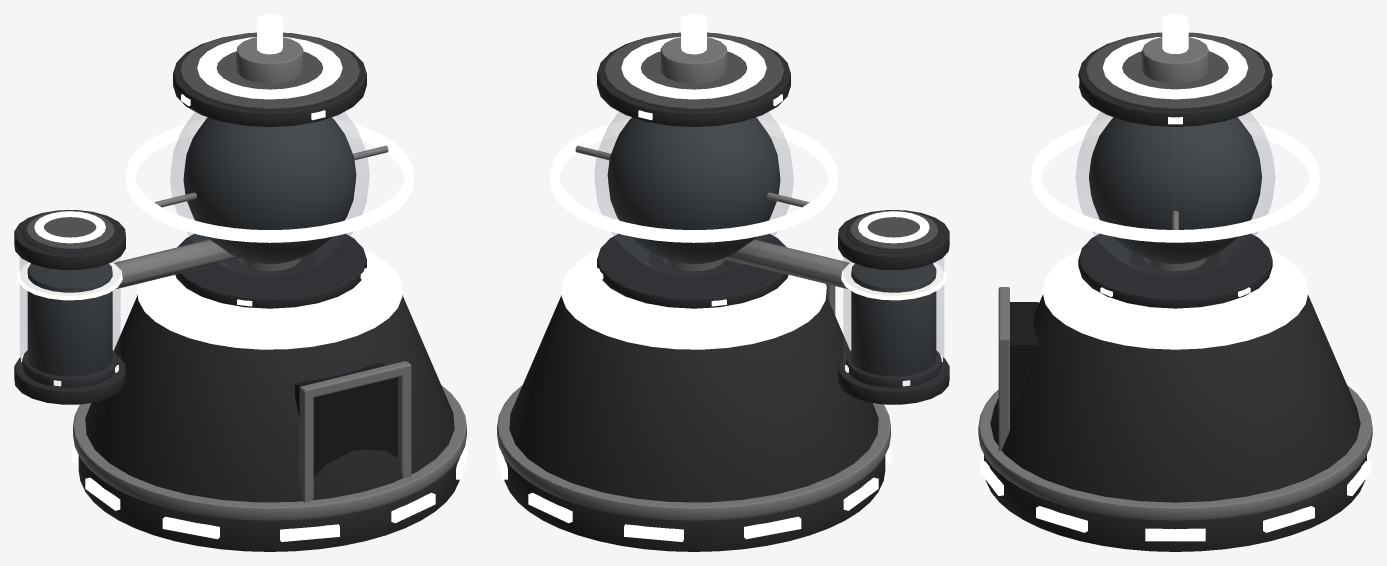
File: Skin_Reactor_T1.glb
3 views of the same model, side by side, from view 1: azimuth 30°, elevation 25°; view 2: azimuth 150°, elevation 25°; view 3: azimuth 270°, elevation 25° (orthographic).
Parts seen in each view (by area): view 1: Skin_Reactor_T1; view 2: Skin_Reactor_T1; view 3: Skin_Reactor_T1.
Part boxes in pixels (bbox=[...]): Skin_Reactor_T1: bbox=[14, 14, 467, 551]; Skin_Reactor_T1: bbox=[496, 14, 949, 551]; Skin_Reactor_T1: bbox=[978, 14, 1372, 551].
Size of the model in its own units: 4.3 by 4.44 by 3.5.
